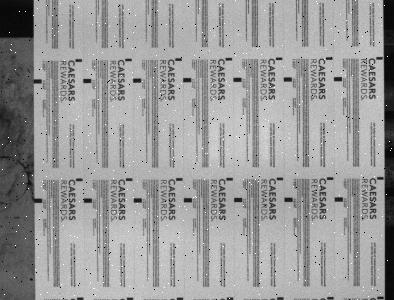qblock: (233, 77, 242, 82), (234, 197, 243, 202), (284, 197, 293, 202), (334, 197, 343, 202), (83, 78, 91, 83), (183, 77, 191, 82), (334, 76, 342, 81), (34, 79, 42, 84), (34, 198, 42, 203), (283, 77, 292, 81), (133, 198, 142, 202), (133, 78, 141, 82), (84, 198, 92, 202), (184, 198, 192, 202)
smallqblock: (175, 57, 182, 61), (226, 57, 232, 61), (277, 177, 283, 181), (176, 297, 184, 300), (276, 297, 284, 300), (75, 59, 82, 62), (227, 297, 234, 300), (126, 297, 133, 300), (327, 297, 334, 300), (377, 296, 384, 299), (125, 58, 132, 61), (276, 57, 283, 60), (326, 57, 333, 60), (376, 57, 383, 60), (176, 178, 183, 181), (226, 178, 233, 181), (76, 178, 83, 181), (126, 178, 132, 181), (77, 297, 83, 300), (327, 177, 333, 180), (377, 177, 383, 180)
